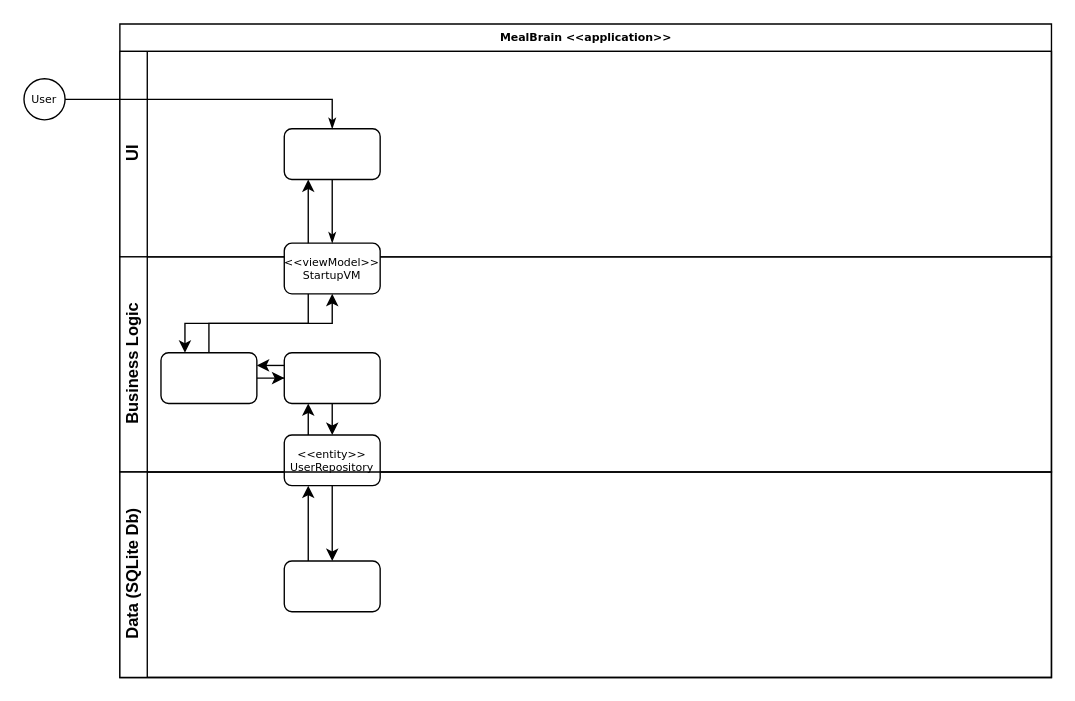
Some shapes in this 1075 by 701 pixel diagram are drawn without their labels. The shapes that lost their labels are listed below. From the top down, each one's centre as x and y in pixels, then its label:
point 331,153: <<view>> StartupView: User Selection
point 208,377: <<model>> StartupModel
point 331,377: <<service>> AccountService
point 331,586: <<table>> User
